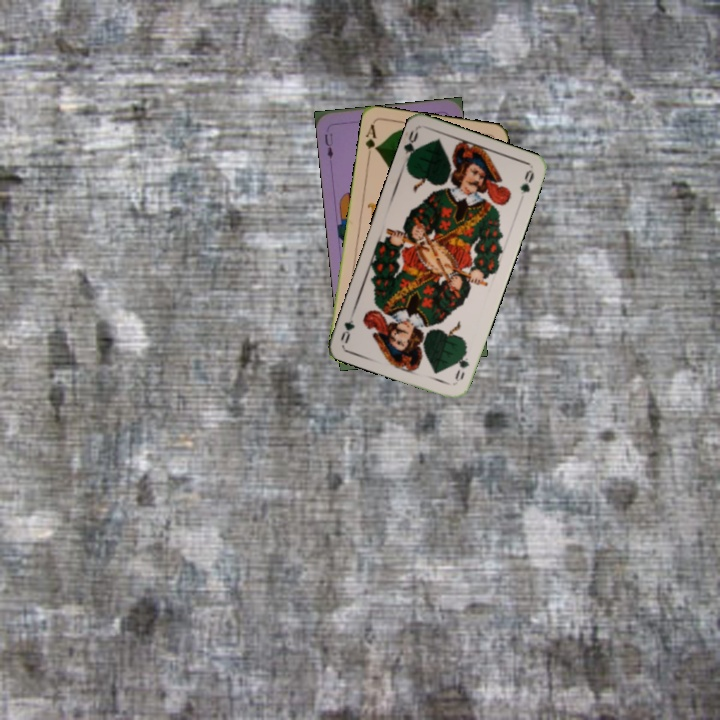EU: (321, 129, 336, 161)
GA: (361, 120, 380, 161)
GO: (400, 126, 423, 167), (451, 345, 472, 385)
